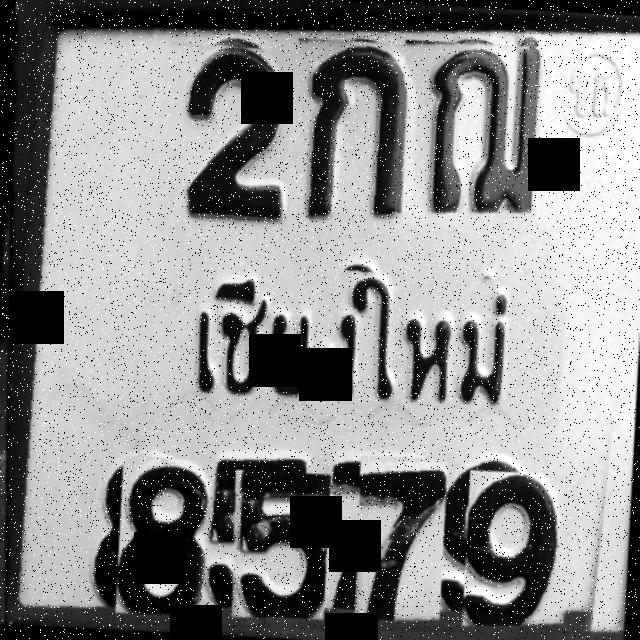letters: (397, 40, 568, 221), (161, 42, 296, 232), (288, 39, 416, 231), (461, 470, 578, 640), (116, 456, 217, 624), (352, 456, 448, 628), (228, 469, 331, 624)
license-plate: (6, 0, 640, 640)
province: (152, 260, 567, 428)
